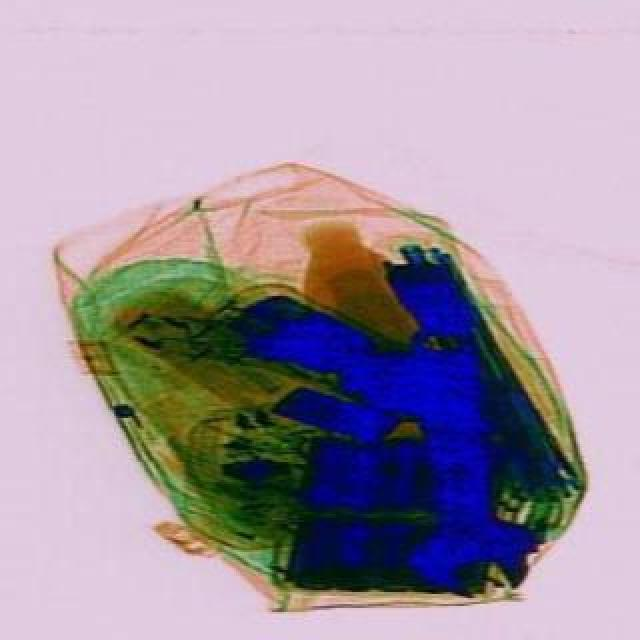scissors: (378, 316, 550, 604)
